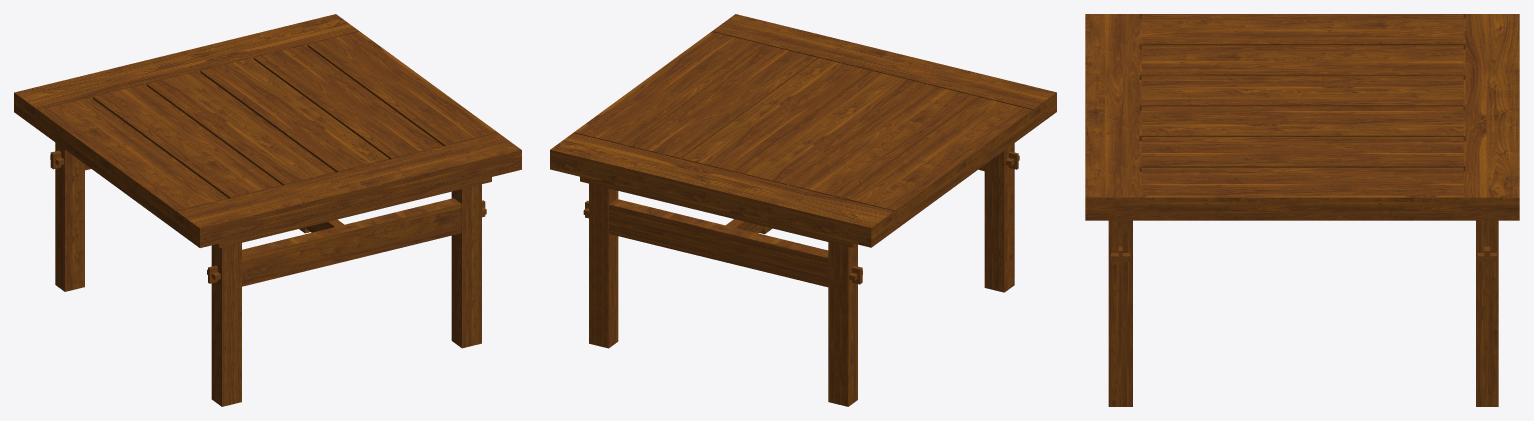
File: RenataSquareCoffeTable.glb
3 renders of one model, left to right at view 1: azimuth 30°, elevation 25°; view 2: azimuth 150°, elevation 25°; view 3: azimuth 270°, elevation 25°, orthographic. The views are drawn at different scales.
Parts seen in each view (by area): view 1: Cube.013, Cube.006, Cube.003, Cube.002, Cube.005, Cube.014; view 2: Cube.013, Cube.007, Cube.005, Cube.004, Cube.003, Cube.015; view 3: Cube.013, Cube.002, Cube.004.
Part boxes in pixels (bbox=[...]): Cube.013: bbox=[14, 14, 521, 247]; Cube.006: bbox=[242, 198, 461, 286]; Cube.003: bbox=[211, 243, 241, 406]; Cube.002: bbox=[451, 184, 481, 348]; Cube.005: bbox=[55, 142, 84, 291]; Cube.014: bbox=[219, 177, 491, 247]; Cube.013: bbox=[550, 14, 1056, 247]; Cube.007: bbox=[609, 199, 828, 287]; Cube.005: bbox=[828, 242, 857, 406]; Cube.004: bbox=[589, 183, 618, 348]; Cube.003: bbox=[984, 143, 1014, 292]; Cube.015: bbox=[580, 177, 851, 247]; Cube.013: bbox=[1085, 14, 1519, 220]; Cube.002: bbox=[1108, 220, 1132, 406]; Cube.004: bbox=[1476, 220, 1498, 406].
Size of the model in its own units: 0.7 by 0.4023 by 0.7.
Materials: 1 (1 with a texture image).
